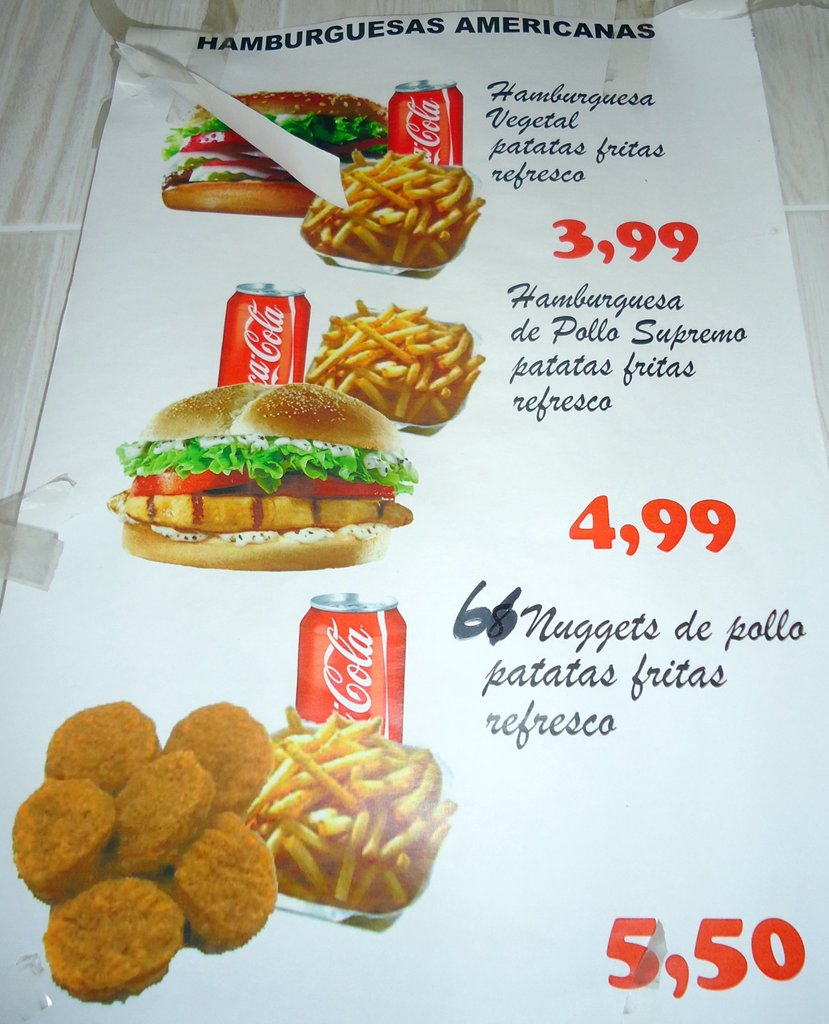French fries: (249, 698, 457, 912), (308, 296, 494, 422), (299, 140, 476, 246)
